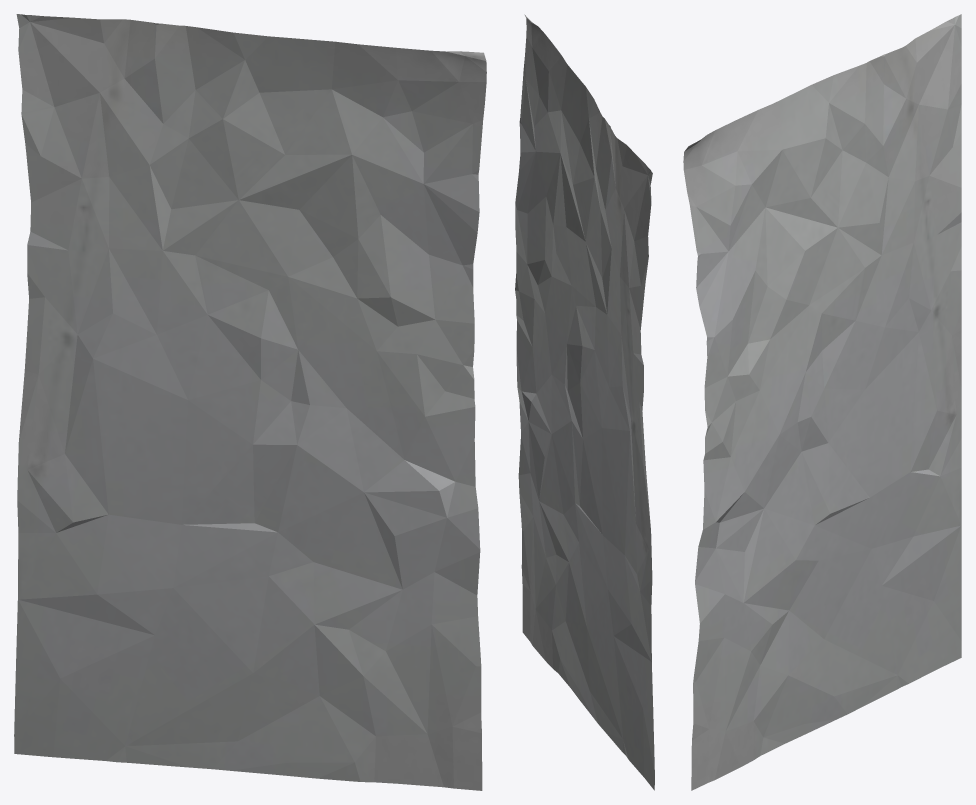
The picture shows the model from 3 angles, left to right: view 1: azimuth 30°, elevation 25°; view 2: azimuth 150°, elevation 25°; view 3: azimuth 270°, elevation 25°; orthographic projection. The views are drawn at different scales.
Size of the model in its own units: 0.7425 by 1.67 by 0.6547.
2 materials, 2 textured.
